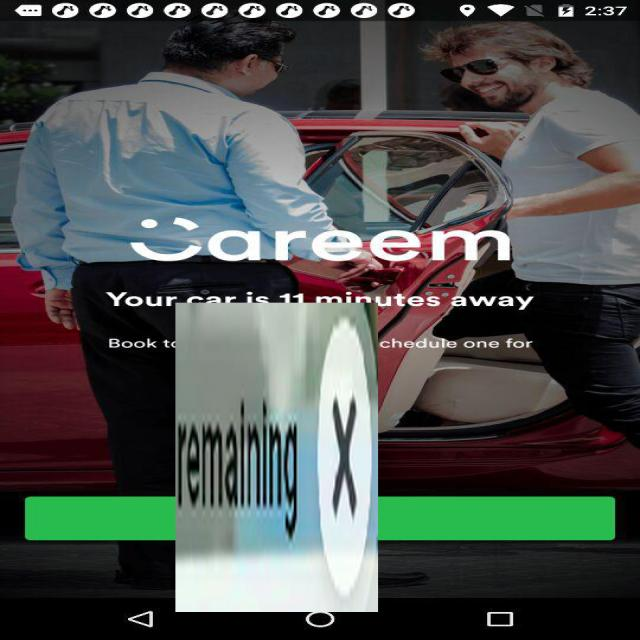misdirection: (175, 303, 378, 612)
